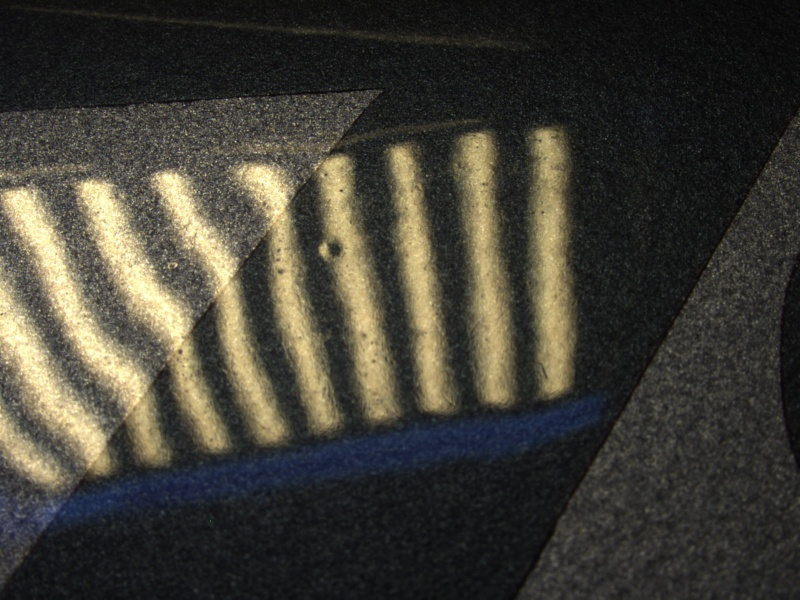bad: (309, 231, 350, 270)
